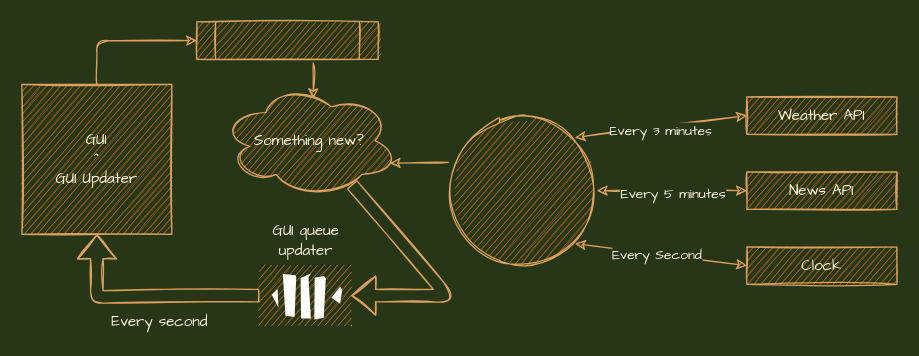
The diagram is 919 pixels wide and 356 high, and some of its shapes have lost their labels. Each missing label, with the centre of its shape:
Current values: the point at 287,40
Event Loop with 3 tasks: the point at 521,190
